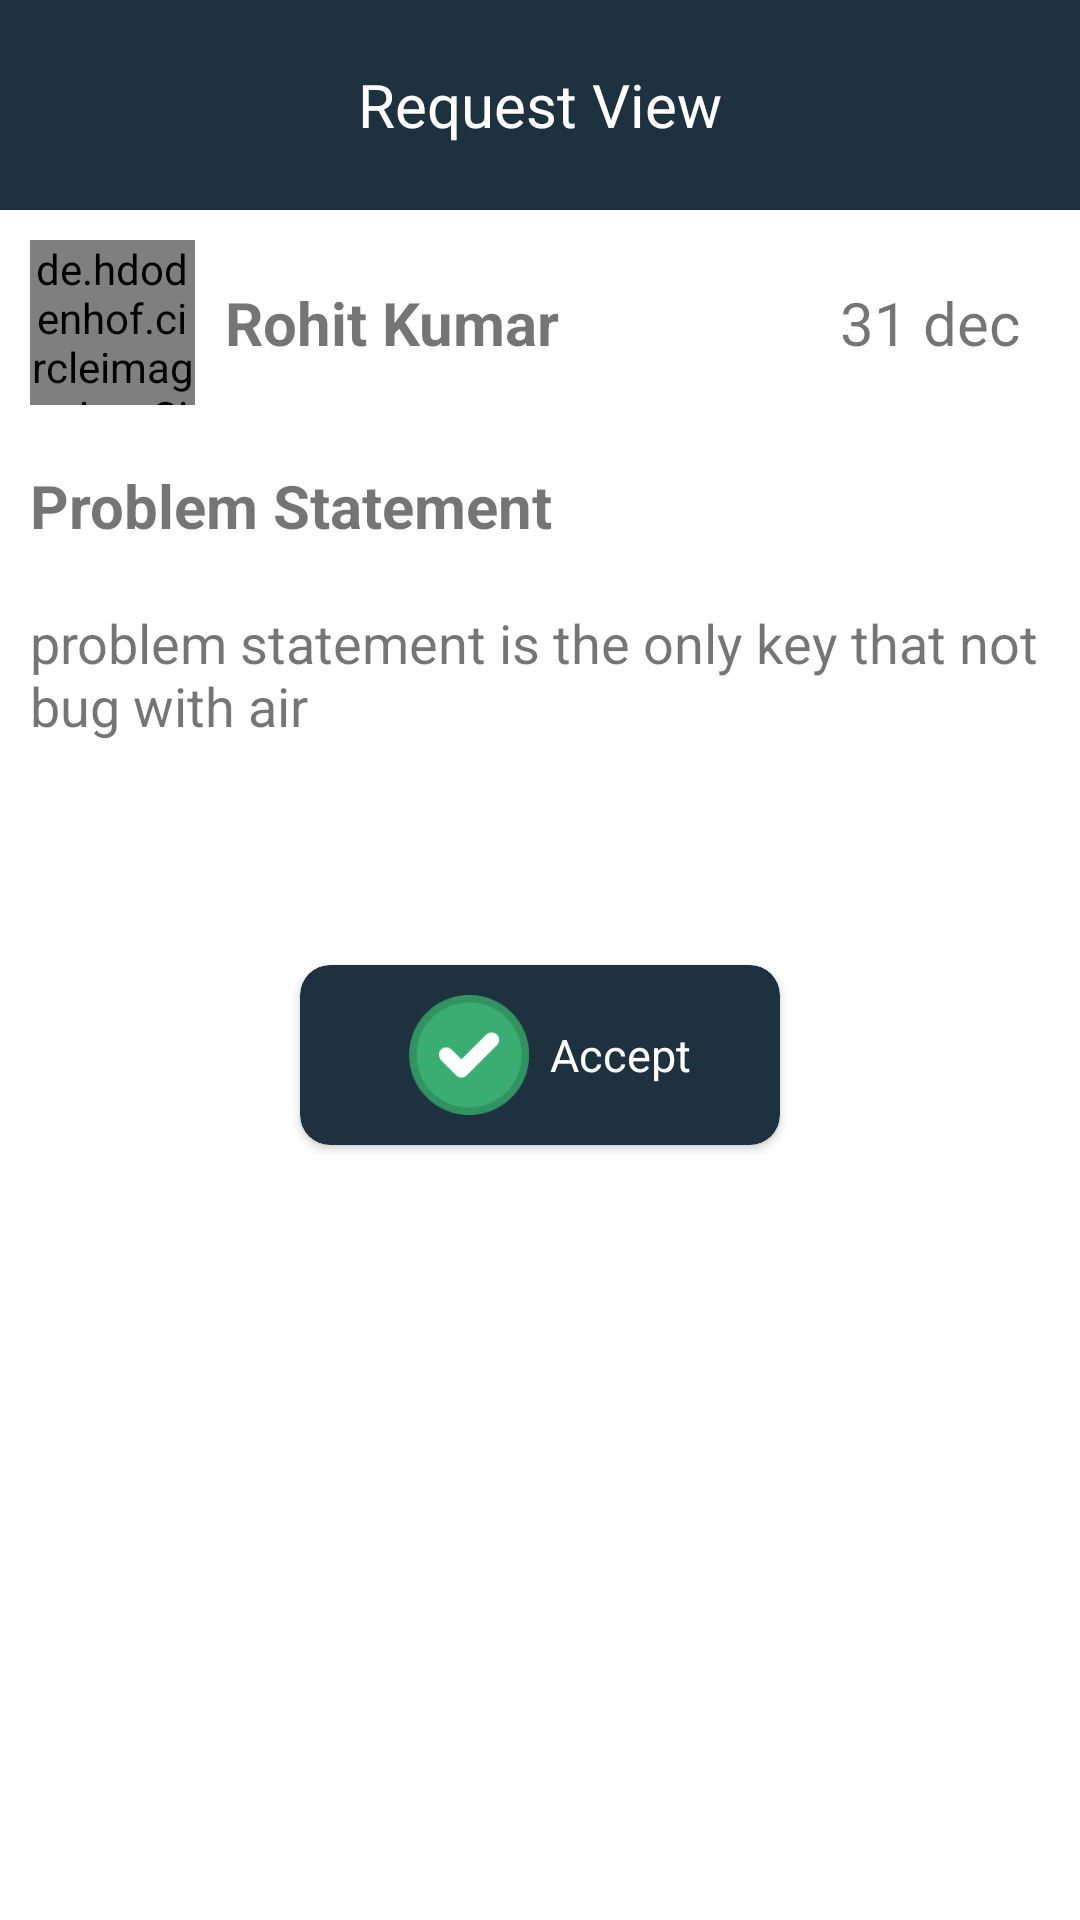

Named icons in this screenshot (1080px×1920px) and their centers, point (x, y):
checkmark: point (469, 1055)
